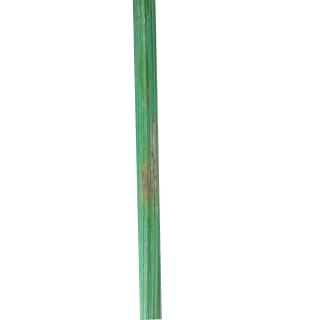Blast: (141, 116, 157, 224), (144, 80, 150, 112)
